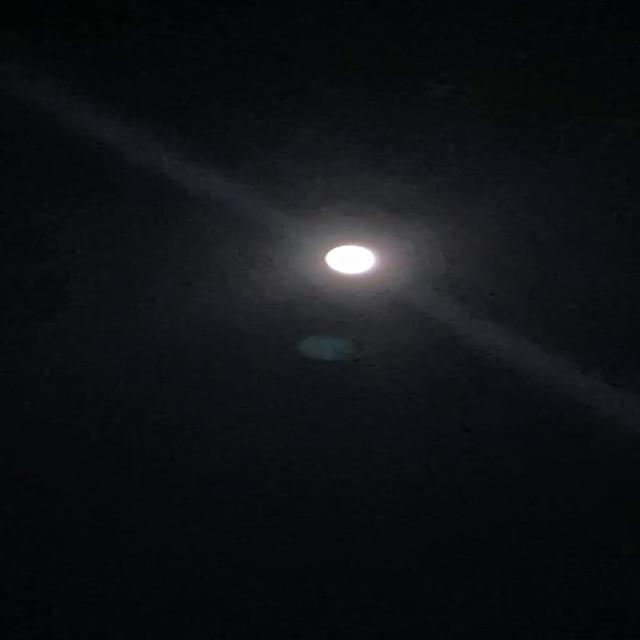moon: (281, 218, 408, 288)
